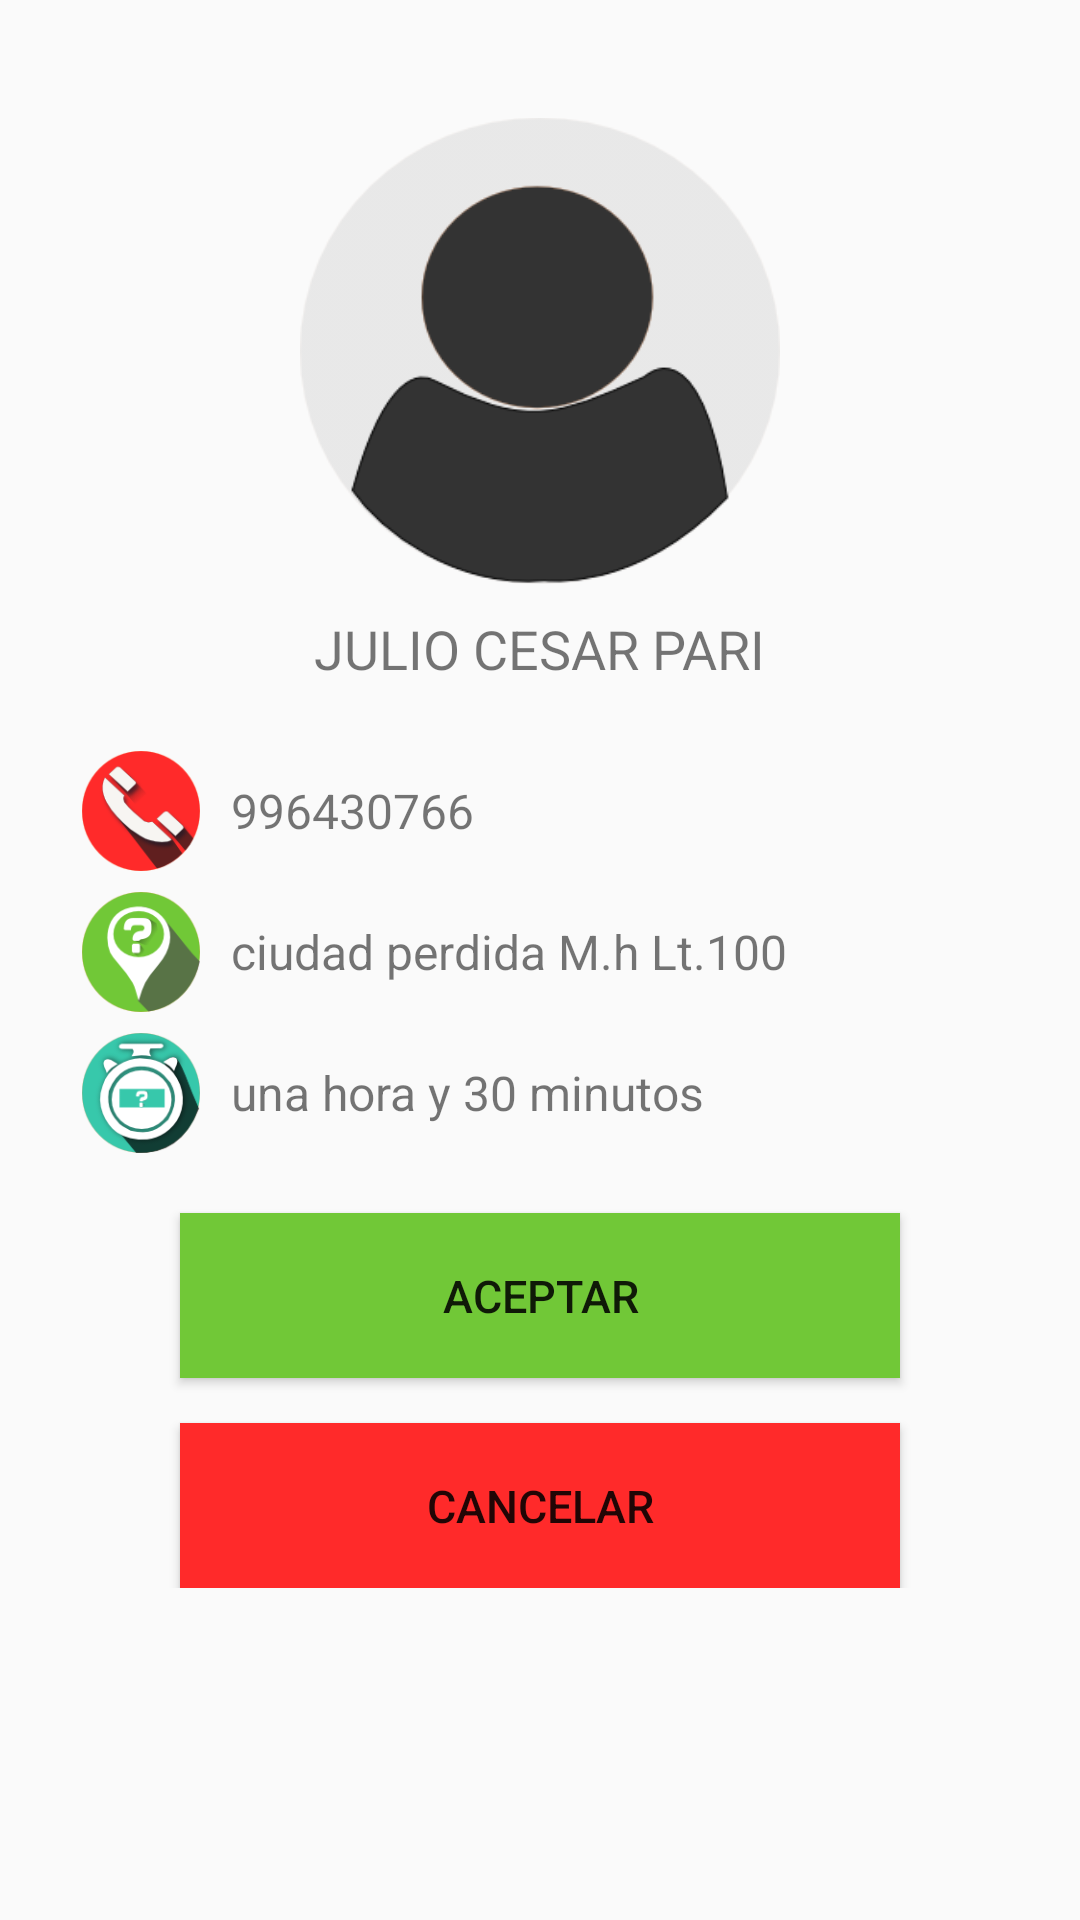

Point at icon controls on the screen. Image size 1080x1920, points as (x=x, y=y).
telefono: (x=141, y=811)
tiempo: (x=141, y=1093)
ubicacion: (x=141, y=952)
